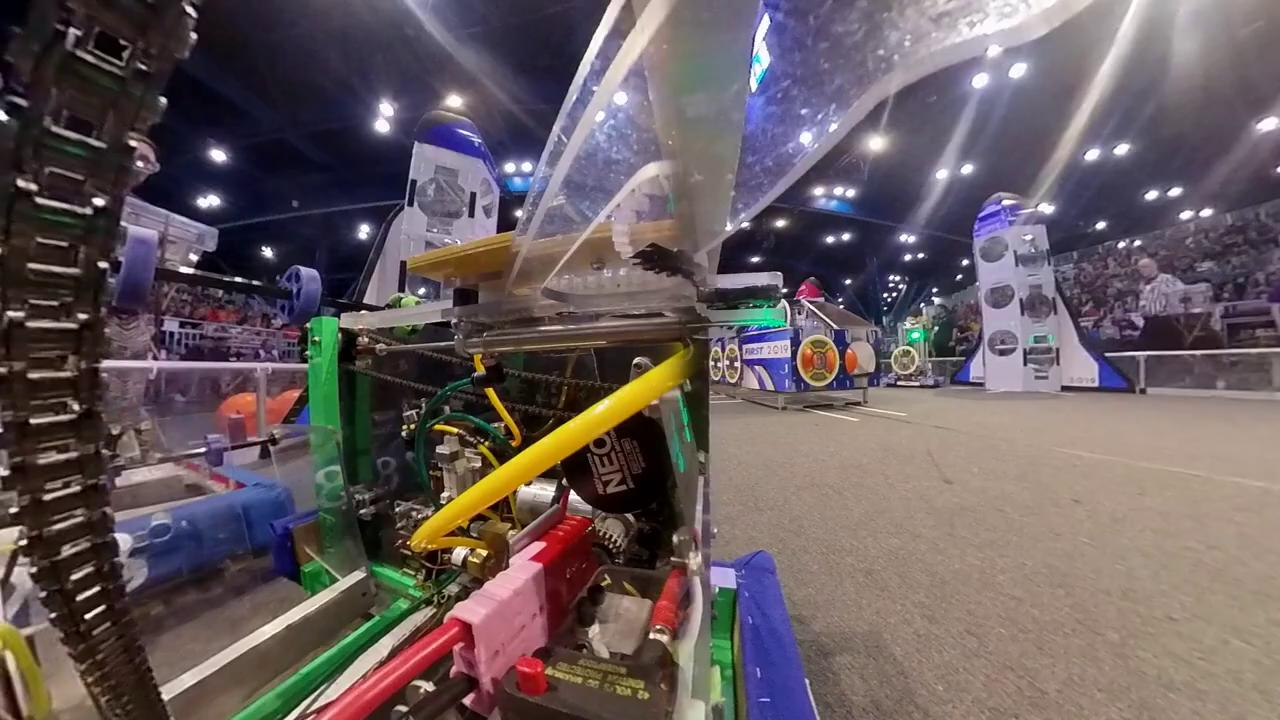robot: (0, 0, 826, 719), (0, 258, 308, 608), (886, 319, 939, 388)
